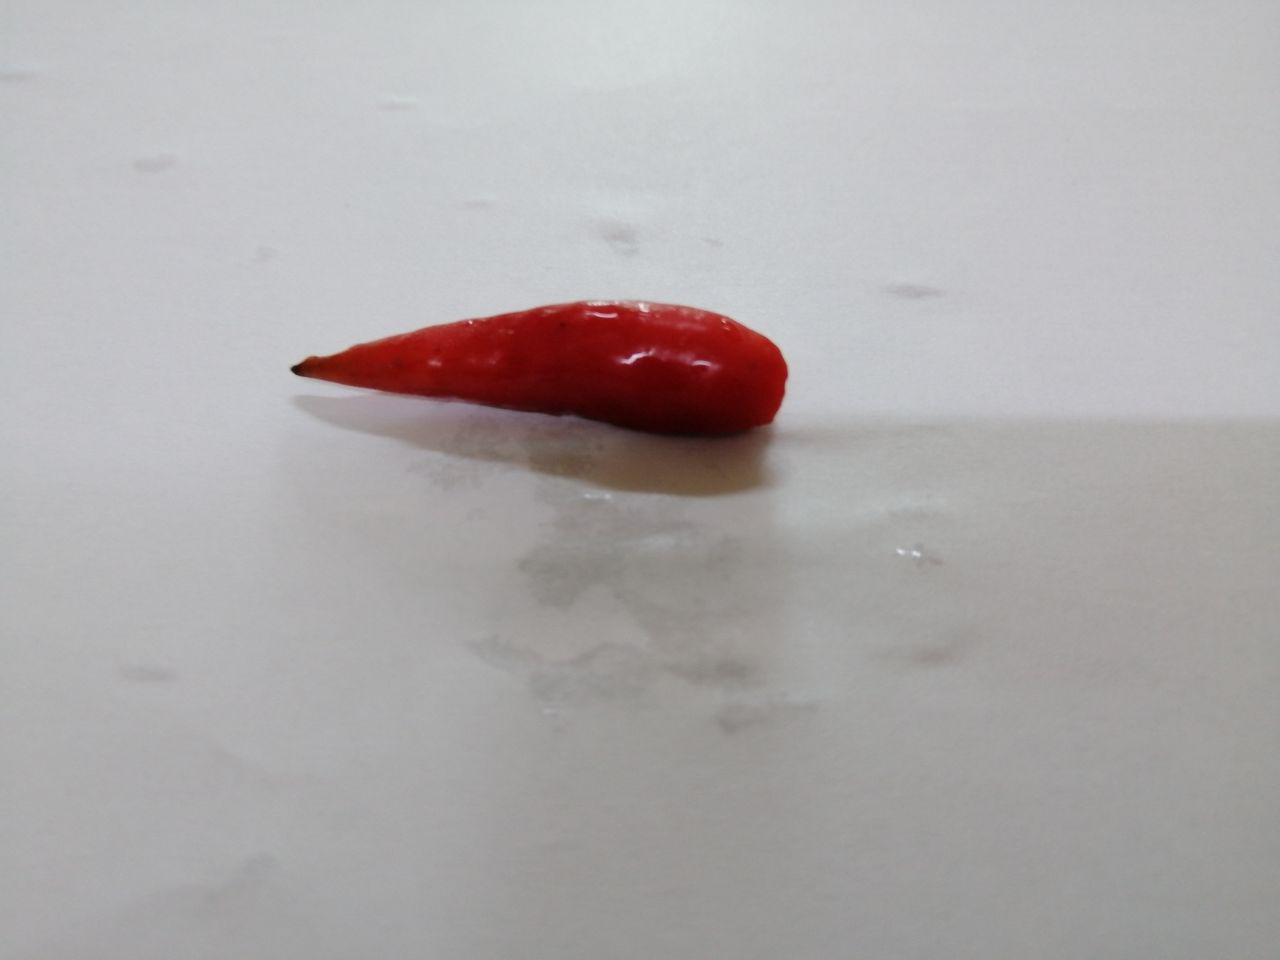lada merah: (269, 281, 803, 474)
